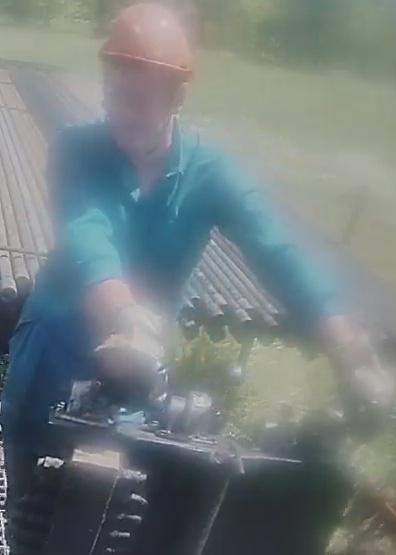gloves: (318, 326, 396, 448), (88, 302, 173, 398)
helmet: (95, 0, 198, 82)
vest: (52, 121, 260, 367)
